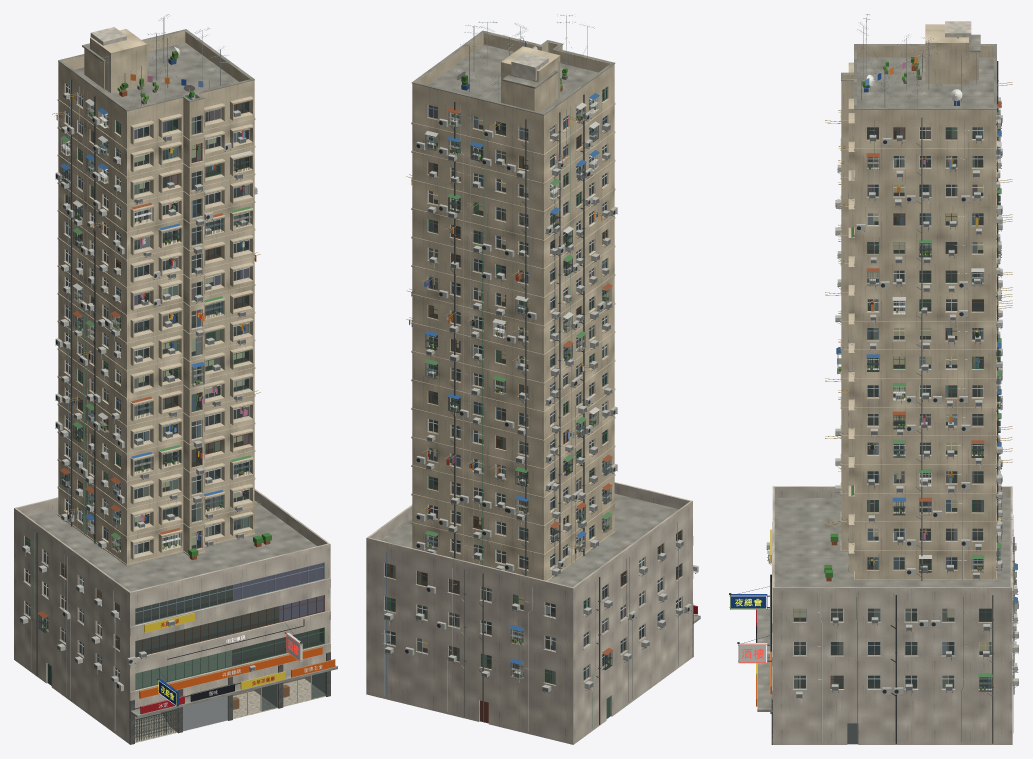
File: hk-podium-tower.glb
The picture shows the model from 3 angles, left to right: view 1: azimuth 30°, elevation 25°; view 2: azimuth 150°, elevation 25°; view 3: azimuth 270°, elevation 25°; orthographic projection. The views are drawn at different scales.
Parts seen in each view (by area): view 1: Building_wall, Building_podium, Building_glass, Building_vc, Building_slab, Building_room, Building_metal, Building_frame, Building_ac, Building_board, Building_floor_tile, Building_shutter (+2 smaller); view 2: Building_wall, Building_podium, Building_vc, Building_glass, Building_metal, Building_ac, Building_slab, Building_frame, Building_room, Building_tank; view 3: Building_wall, Building_podium, Building_slab, Building_glass, Building_vc, Building_metal, Building_room, Building_ac, Building_frame, Building_board, Building_lit_warm, Building_bamboo (+1 smaller).
Boxes of the visible parts, x1=… form: Building_wall: x1=57, y1=29, x2=255, y2=565; Building_podium: x1=14, y1=488, x2=330, y2=743; Building_glass: x1=25, y1=84, x2=325, y2=710; Building_vc: x1=25, y1=46, x2=323, y2=730; Building_slab: x1=27, y1=29, x2=337, y2=737; Building_room: x1=26, y1=84, x2=325, y2=732; Building_metal: x1=20, y1=14, x2=337, y2=741; Building_frame: x1=25, y1=83, x2=324, y2=714; Building_ac: x1=20, y1=92, x2=257, y2=691; Building_board: x1=139, y1=613, x2=335, y2=714; Building_floor_tile: x1=135, y1=678, x2=325, y2=742; Building_shutter: x1=183, y1=696, x2=227, y2=730; Building_wall: x1=411, y1=33, x2=615, y2=581; Building_podium: x1=366, y1=482, x2=693, y2=744; Building_vc: x1=381, y1=41, x2=682, y2=731; Building_glass: x1=385, y1=87, x2=680, y2=683; Building_metal: x1=384, y1=14, x2=700, y2=723; Building_ac: x1=384, y1=111, x2=698, y2=692; Building_slab: x1=380, y1=30, x2=700, y2=623; Building_frame: x1=385, y1=87, x2=681, y2=684; Building_room: x1=387, y1=88, x2=680, y2=682; Building_tank: x1=511, y1=52, x2=548, y2=80; Building_wall: x1=840, y1=24, x2=997, y2=580; Building_podium: x1=772, y1=486, x2=1013, y2=744; Building_slab: x1=757, y1=34, x2=1010, y2=711; Building_glass: x1=794, y1=127, x2=991, y2=688; Building_vc: x1=767, y1=37, x2=1018, y2=743; Building_metal: x1=729, y1=14, x2=1018, y2=744; Building_room: x1=794, y1=127, x2=991, y2=687; Building_ac: x1=766, y1=97, x2=1018, y2=698; Building_frame: x1=793, y1=127, x2=991, y2=688; Building_board: x1=730, y1=529, x2=771, y2=706; Building_lit_warm: x1=794, y1=185, x2=988, y2=650; Building_bamboo: x1=825, y1=82, x2=1012, y2=563.
Bounding box in the file's own units: 23.14 × 66.52 × 26.58.
20 materials, 8 textured.
